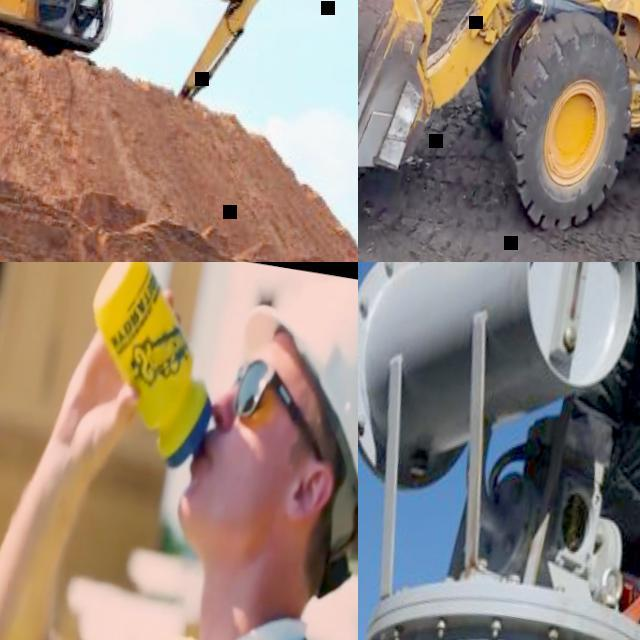Helmet: (242, 283, 358, 564)
Robbery: (0, 265, 356, 640)
